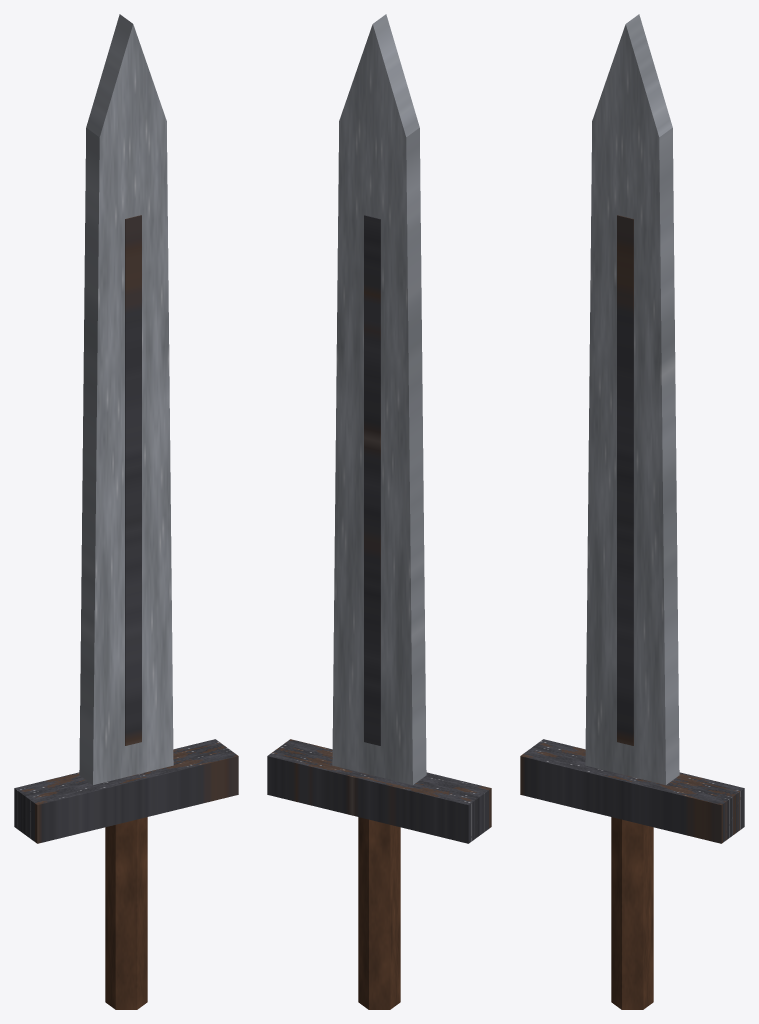
File: rival_iron_greatsword.obj
3 renders of one model, left to right at view 1: azimuth 30°, elevation 25°; view 2: azimuth 150°, elevation 25°; view 3: azimuth 330°, elevation 25°, orthographic.
Parts seen in each view (by area): view 1: rival_iron_greatsword; view 2: rival_iron_greatsword; view 3: rival_iron_greatsword.
Boxes of the visible parts, bbox=[...] form: rival_iron_greatsword: bbox=[14, 14, 238, 1009]; rival_iron_greatsword: bbox=[267, 14, 491, 1009]; rival_iron_greatsword: bbox=[520, 14, 744, 1009].
Bounding box in the file's own units: 0.375 × 1.75 × 0.075.
